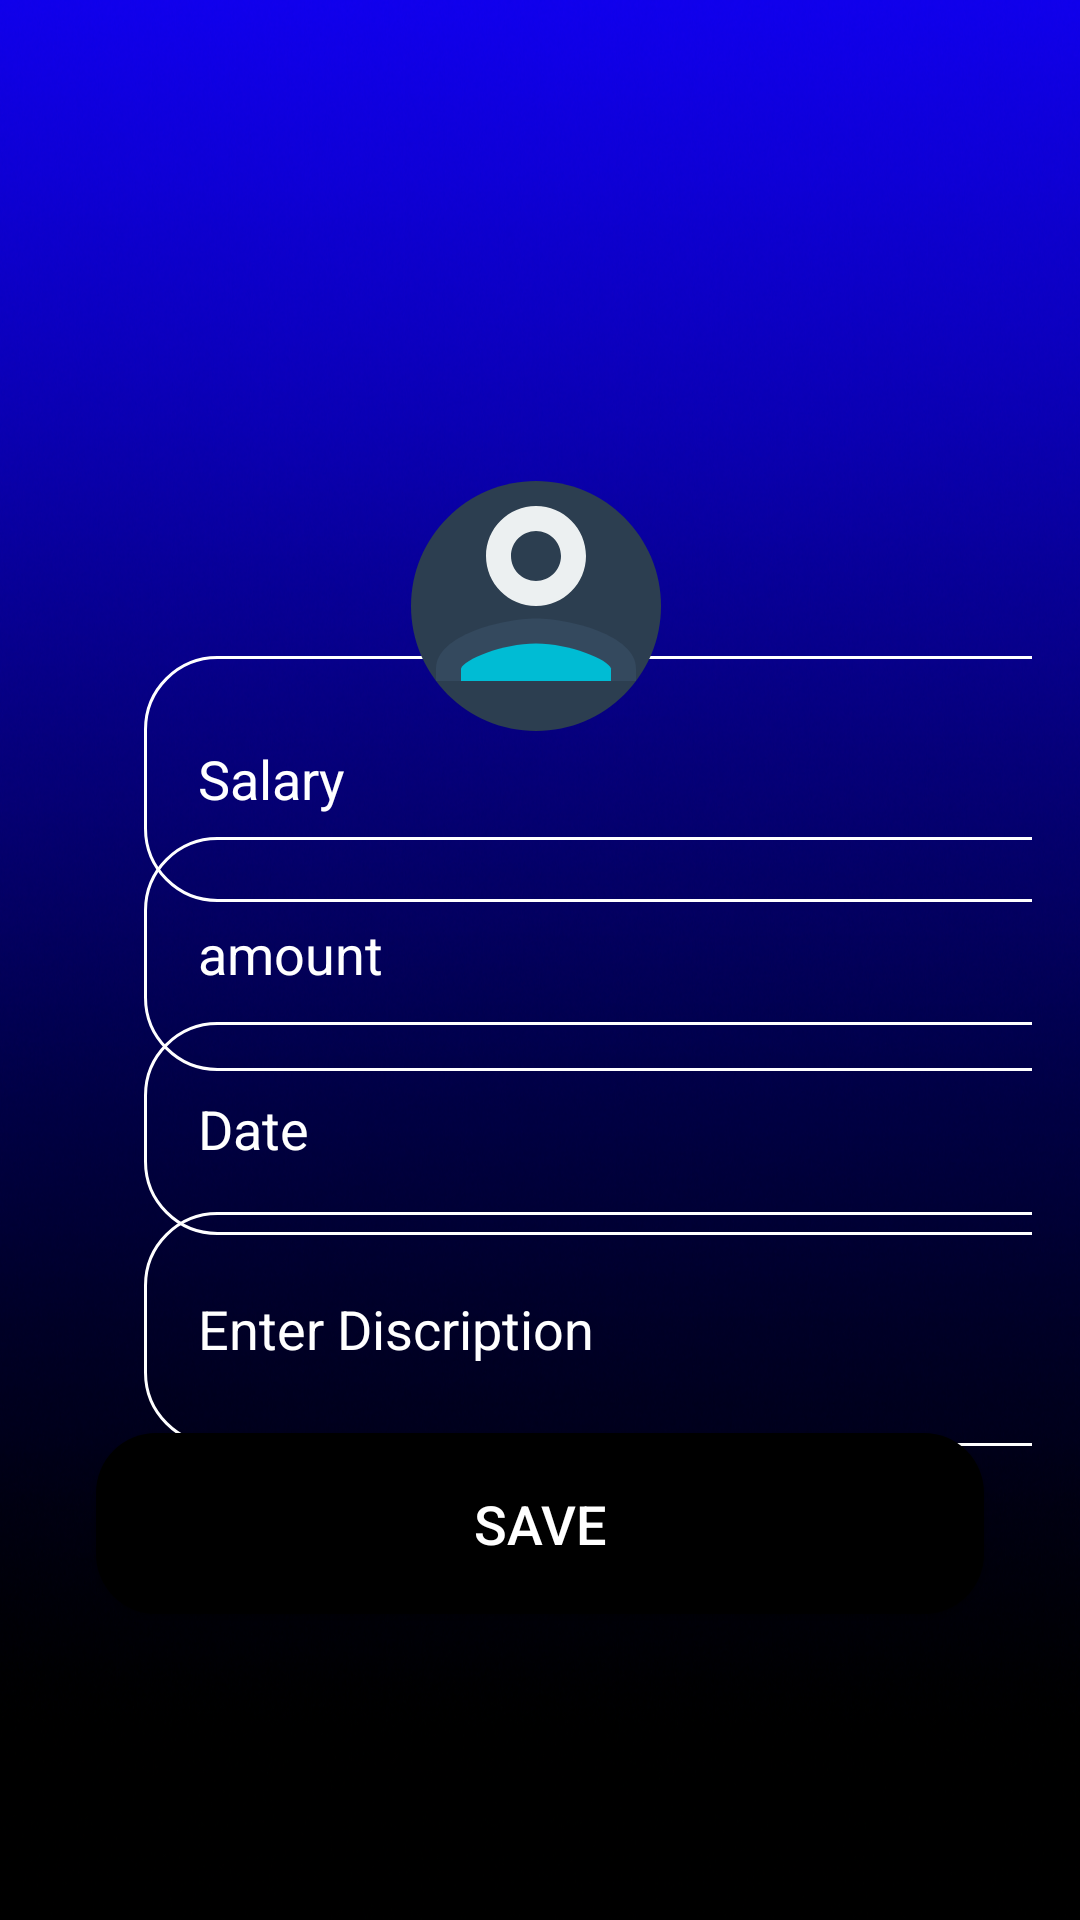

Where to tap for icons on this 1080px×1920px app screen, as [x,y]:
profile: [536,606]
